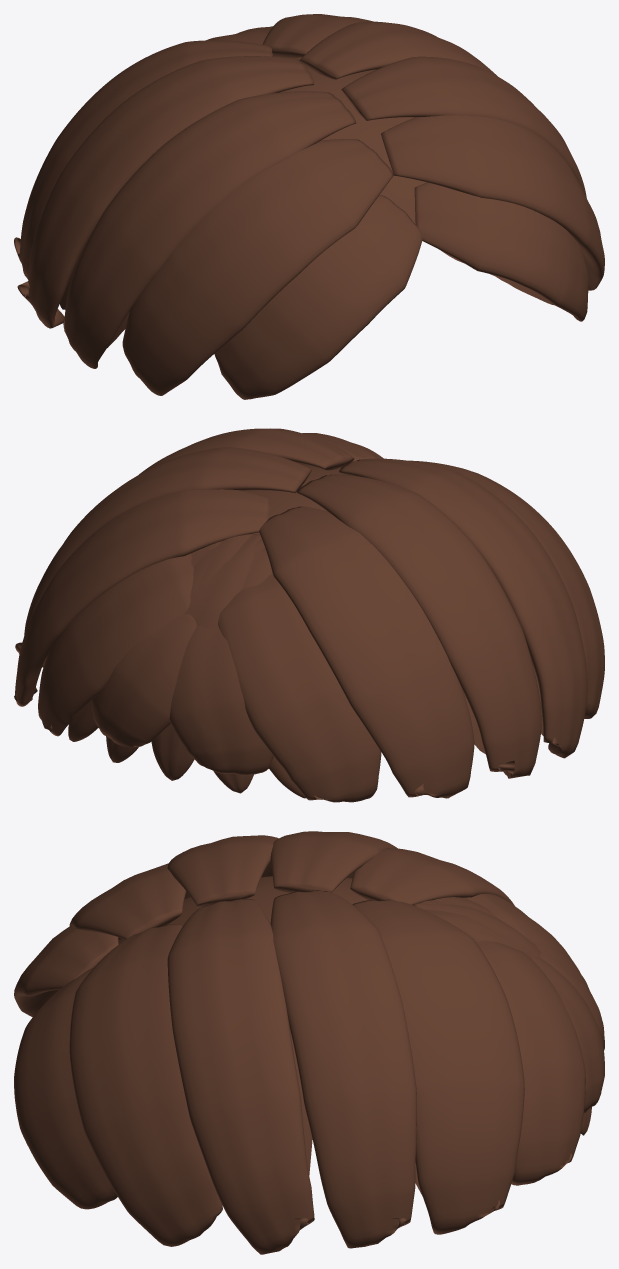
File: Masculine-Masculine-middle-part-hair261-2283dcc5.glb
The picture shows the model from 3 angles, top to bottom: view 1: azimuth 30°, elevation 25°; view 2: azimuth 150°, elevation 25°; view 3: azimuth 270°, elevation 25°; orthographic projection. The views are drawn at different scales.
Parts seen in each view (by area): view 1: 226 hair / Hair260 / layered middle-part; view 2: 226 hair / Hair260 / layered middle-part; view 3: 226 hair / Hair260 / layered middle-part.
Boxes of the visible parts, left/top/right/bottom form: 226 hair / Hair260 / layered middle-part: left=14, top=14, right=604, bottom=399; 226 hair / Hair260 / layered middle-part: left=14, top=428, right=604, bottom=802; 226 hair / Hair260 / layered middle-part: left=14, top=831, right=604, bottom=1254.
Size of the model in its own units: 0.8269 by 0.3801 by 0.7909.
